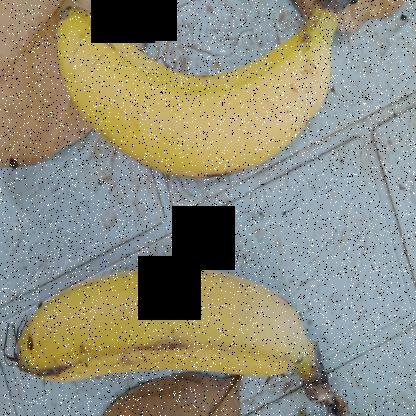freshripe: (62, 1, 372, 202), (1, 267, 331, 415)
